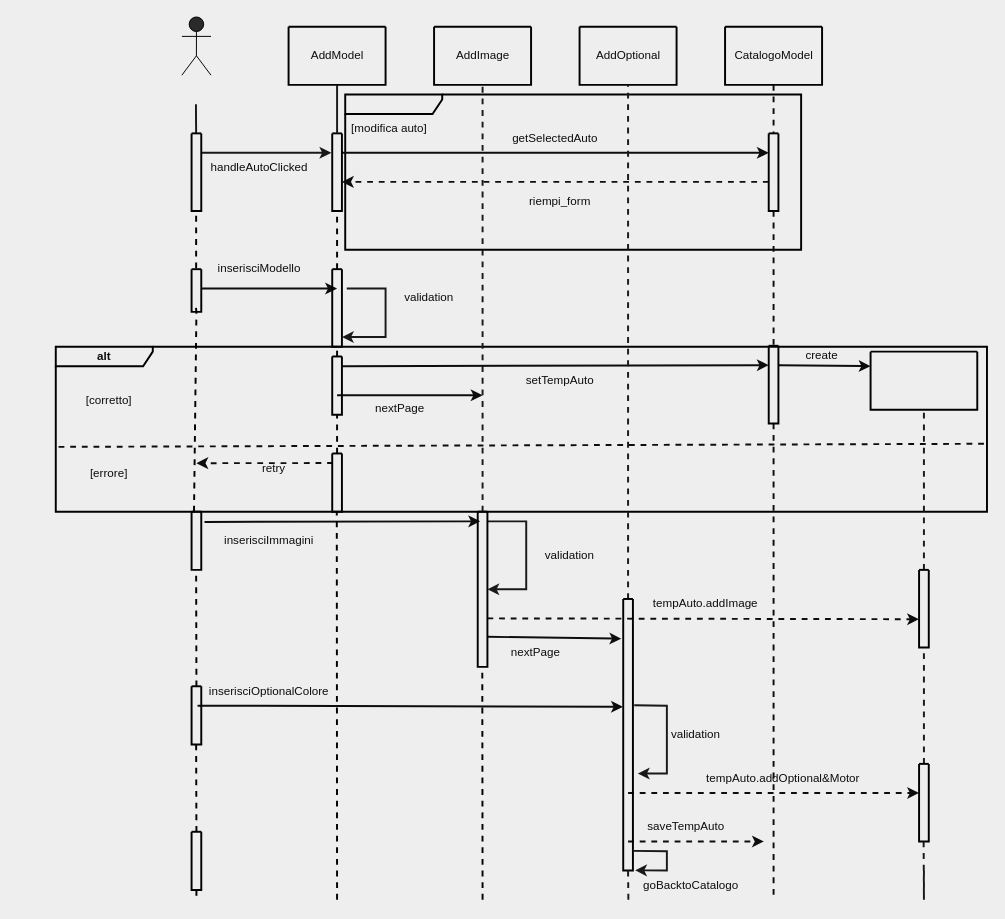
This 1005x919 diagram has some shape labels left out. The shapes that lost their labels are listed below. From the top down, each one's box as (x1, y1, x2, y2) in pixels, then its label:
(181, 16, 211, 75): Segretario
(344, 93, 802, 250): opt
(869, 350, 978, 410): AutoNuova
